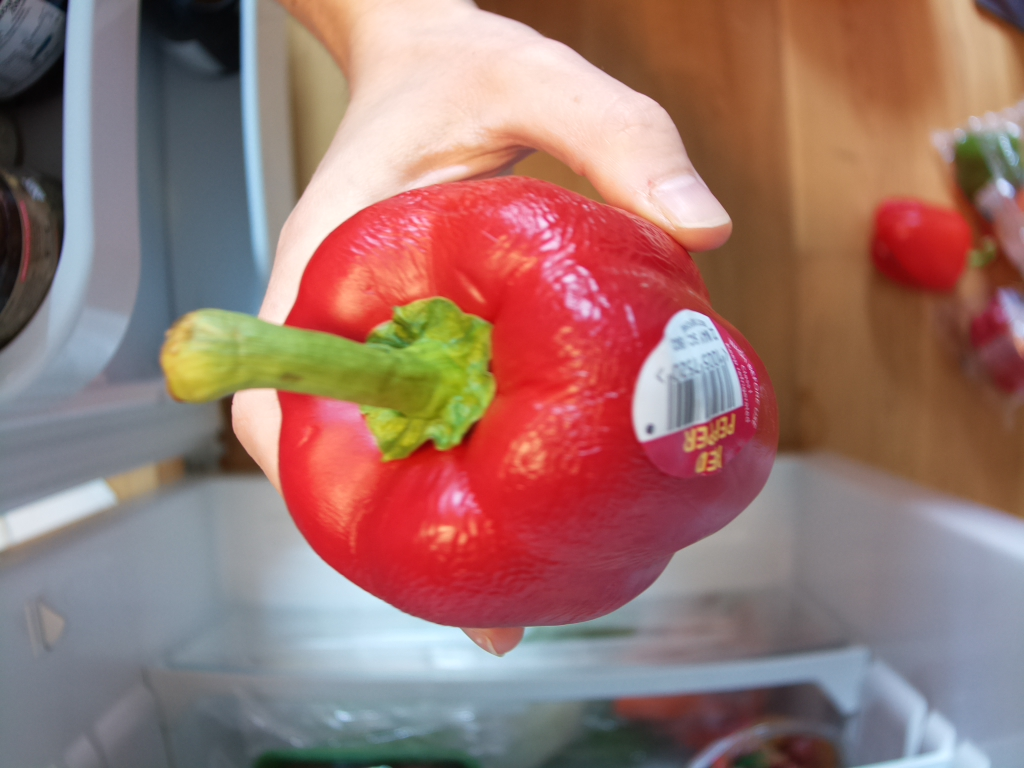pepper-bad: (159, 172, 790, 635)
